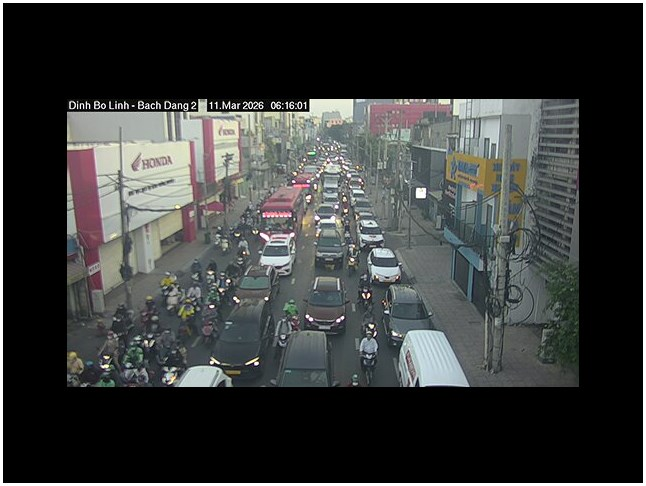car: (394, 328, 471, 386), (380, 284, 435, 347), (272, 329, 333, 385), (302, 275, 350, 332), (259, 237, 294, 277), (167, 365, 232, 386), (366, 247, 402, 283), (315, 234, 345, 268), (358, 224, 385, 248), (315, 205, 337, 221)
